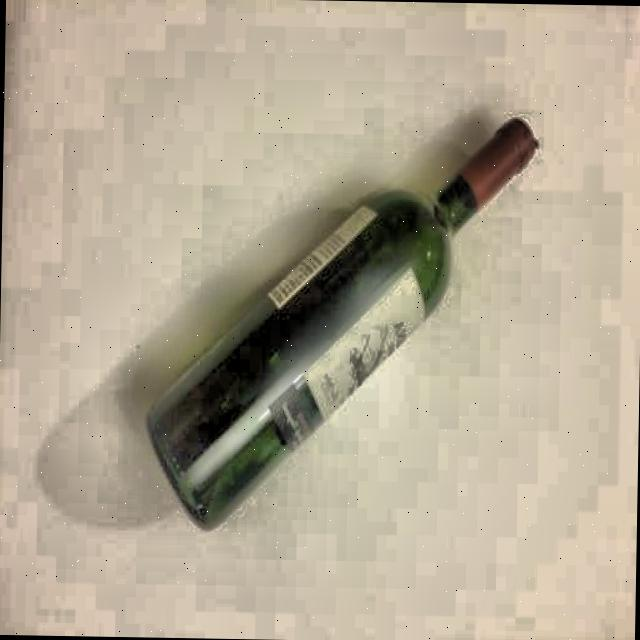glass: (141, 106, 544, 540)
